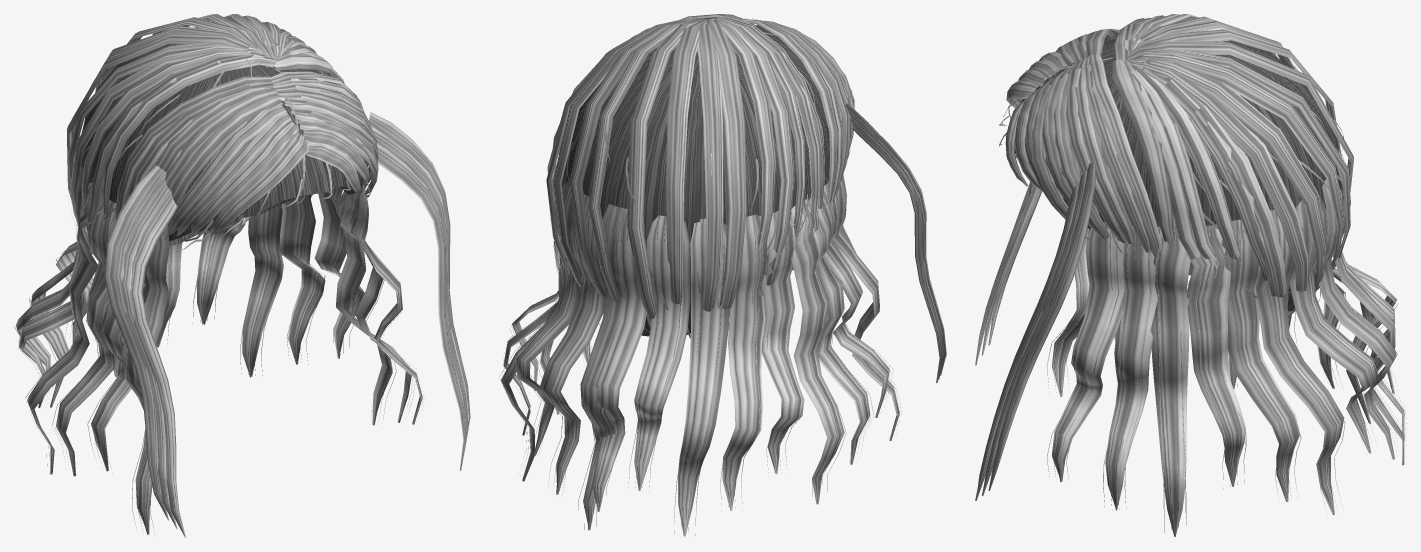
The model's file is unified_f_bob.glb.
The picture shows the model from 3 angles, left to right: view 1: azimuth 30°, elevation 25°; view 2: azimuth 150°, elevation 25°; view 3: azimuth 270°, elevation 25°; orthographic projection. The views are drawn at different scales.
Visible parts, largest first — view 1: Hair_directional_locks, Hair_face_framing_lock, Hair_scalp, Hair_face_framing_lock.001, Hair_wavy_layer.002, Hair_wavy_layer.014, Hair_wavy_layer.013, Hair_wavy_layer, Hair_wavy_layer.003, Hair_wavy_layer.011, Hair_wavy_layer.012, Hair_wavy_layer.001 (+9 smaller); view 2: Hair_directional_locks, Hair_scalp, Hair_wavy_layer.006, Hair_wavy_layer.005, Hair_wavy_layer.007, Hair_wavy_layer.003, Hair_wavy_layer.008, Hair_wavy_layer.004, Hair_wavy_layer.016, Hair_wavy_layer.017, Hair_face_framing_lock, Hair_wavy_layer.002 (+16 smaller); view 3: Hair_directional_locks, Hair_wavy_layer.011, Hair_wavy_layer.010, Hair_wavy_layer.012, Hair_face_framing_lock.001, Hair_wavy_layer.009, Hair_wavy_layer.013, Hair_scalp, Hair_wavy_layer.014, Hair_wavy_layer.015, Hair_wavy_layer.016, Hair_face_framing_lock (+13 smaller).
Boxes of the visible parts, <box> form: Hair_directional_locks: <box>67,14,378,244</box>; Hair_face_framing_lock: <box>104,165,185,537</box>; Hair_scalp: <box>80,27,364,245</box>; Hair_face_framing_lock.001: <box>368,112,470,470</box>; Hair_wavy_layer.002: <box>56,200,115,476</box>; Hair_wavy_layer.014: <box>242,204,283,377</box>; Hair_wavy_layer.013: <box>280,194,325,364</box>; Hair_wavy_layer: <box>121,225,169,534</box>; Hair_wavy_layer.003: <box>27,182,102,474</box>; Hair_wavy_layer.011: <box>335,191,392,425</box>; Hair_wavy_layer.012: <box>314,187,364,358</box>; Hair_wavy_layer.001: <box>91,282,145,471</box>; Hair_directional_locks: <box>546,14,854,327</box>; Hair_scalp: <box>562,25,829,336</box>; Hair_wavy_layer.006: <box>678,218,729,536</box>; Hair_wavy_layer.005: <box>722,214,768,510</box>; Hair_wavy_layer.007: <box>634,215,690,490</box>; Hair_wavy_layer.003: <box>790,199,844,504</box>; Hair_wavy_layer.008: <box>591,207,646,511</box>; Hair_wavy_layer.004: <box>760,211,804,473</box>; Hair_wavy_layer.016: <box>540,194,606,494</box>; Hair_wavy_layer.017: <box>580,204,626,530</box>; Hair_face_framing_lock: <box>845,103,946,382</box>; Hair_wavy_layer.002: <box>809,192,870,464</box>; Hair_directional_locks: <box>1005,14,1353,313</box>; Hair_wavy_layer.011: <box>1150,226,1190,536</box>; Hair_wavy_layer.010: <box>1105,226,1158,510</box>; Hair_wavy_layer.012: <box>1186,224,1245,486</box>; Hair_face_framing_lock.001: <box>975,161,1096,500</box>; Hair_wavy_layer.009: <box>1052,221,1126,482</box>; Hair_wavy_layer.013: <box>1221,219,1299,501</box>; Hair_scalp: <box>1015,37,1341,311</box>; Hair_wavy_layer.014: <box>1255,209,1344,514</box>; Hair_wavy_layer.015: <box>1289,193,1376,453</box>; Hair_wavy_layer.016: <box>1315,179,1396,459</box>; Hair_face_framing_lock: <box>975,182,1042,365</box>.
Size of the model in its own units: 0.1207 by 0.1455 by 0.1312.
Materials: 2 (2 with a texture image).
